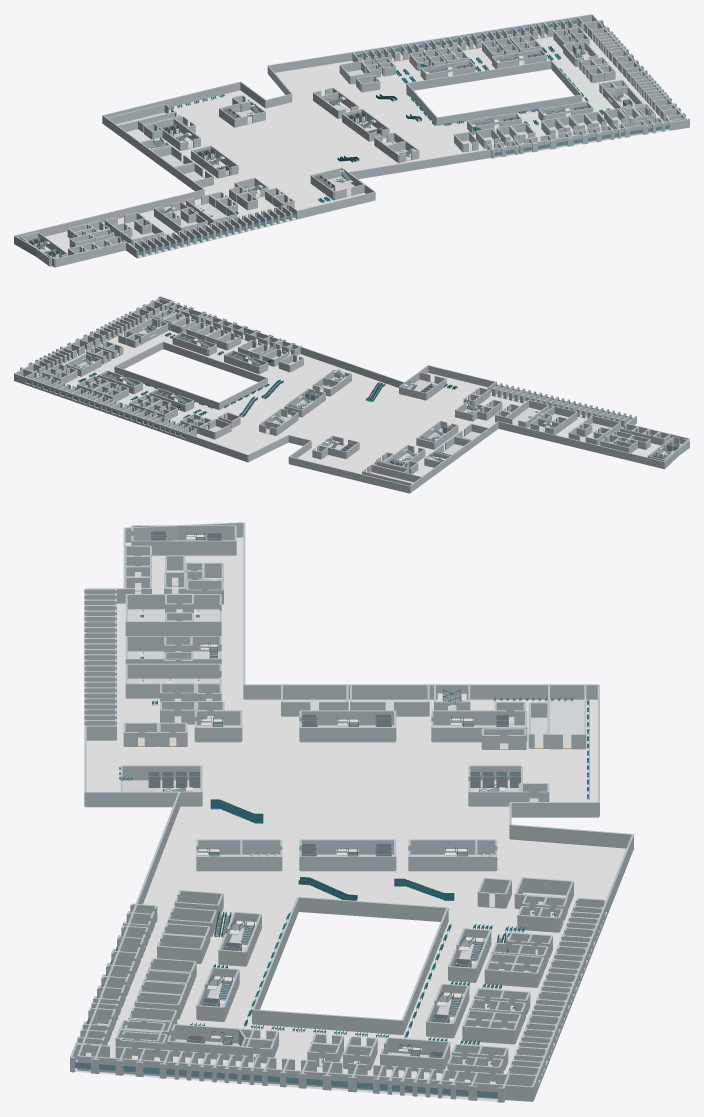
File: nanjing-F2.glb
3 renders of one model, top to bottom at view 1: azimuth 30°, elevation 25°; view 2: azimuth 150°, elevation 25°; view 3: azimuth 270°, elevation 25°, orthographic. The views are drawn at different scales.
Visible parts, largest first — view 1: Floor slab, wall-592, wall-584, wall-623, wall-625, wall-586, wall-590, wall-594, wall-621, wall-585, wall-676, wall-591; view 2: Floor slab, wall-592, wall-584, wall-586, wall-625, wall-623, wall-594, wall-590, wall-591, wall-585, wall-626, wall-679 (+2 smaller); view 3: Floor slab, wall-585, wall-591, wall-624, wall-626, wall-589, wall-592, wall-634, wall-661, wall-818, wall-830, wall-672 (+21 smaller).
Boxes of the visible parts, box(x1,y1,x2,y2) form: Floor slab: box(45, 31, 663, 267); wall-592: box(348, 118, 685, 178); wall-584: box(14, 189, 204, 238); wall-623: box(407, 60, 551, 90); wall-625: box(437, 94, 581, 125); wall-586: box(103, 81, 240, 117); wall-590: box(268, 51, 354, 72); wall-594: box(296, 192, 375, 218); wall-621: box(55, 242, 125, 267); wall-585: box(102, 115, 204, 191); wall-676: box(107, 104, 164, 124); wall-591: box(592, 14, 686, 119); Floor slab: box(53, 321, 681, 493); wall-592: box(159, 298, 404, 387); wall-584: box(498, 421, 664, 468); wall-586: box(289, 456, 409, 493); wall-625: box(163, 341, 267, 382); wall-623: box(114, 366, 219, 409); wall-594: box(428, 365, 496, 387); wall-590: box(185, 433, 247, 462); wall-591: box(14, 298, 159, 375); wall-585: box(409, 421, 498, 493); wall-626: box(219, 378, 267, 409); wall-679: box(371, 465, 421, 482); Floor slab: box(85, 537, 625, 1101); wall-585: box(244, 684, 598, 699); wall-591: box(78, 1055, 532, 1101); wall-624: box(253, 1009, 402, 1034); wall-626: box(298, 896, 447, 921); wall-589: box(510, 824, 632, 848); wall-592: box(77, 792, 180, 1069); wall-634: box(300, 727, 395, 742); wall-661: box(300, 856, 395, 871); wall-818: box(126, 621, 220, 636); wall-830: box(126, 663, 220, 678); wall-672: box(132, 540, 235, 555).
Size of the model in its own units: 273 by 4.28 by 115.
